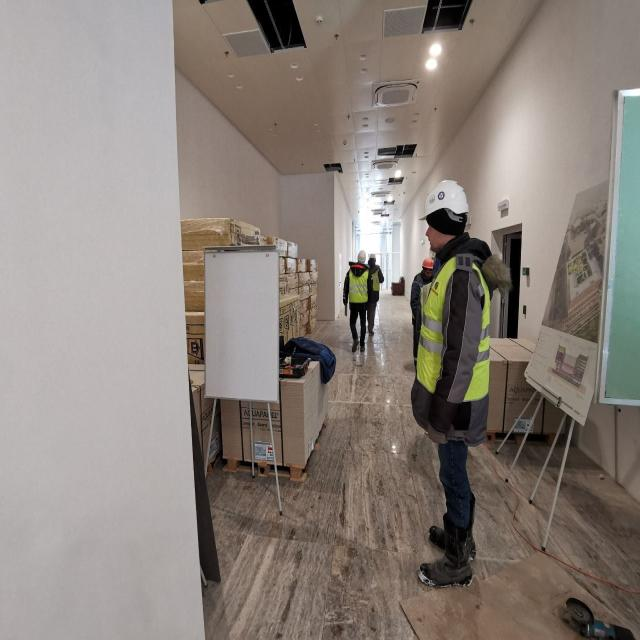Helmet: (420, 182, 469, 223), (423, 259, 435, 272), (359, 251, 367, 263), (370, 254, 377, 261)
Jacket: (423, 260, 491, 393), (350, 269, 370, 305), (372, 269, 381, 293)
